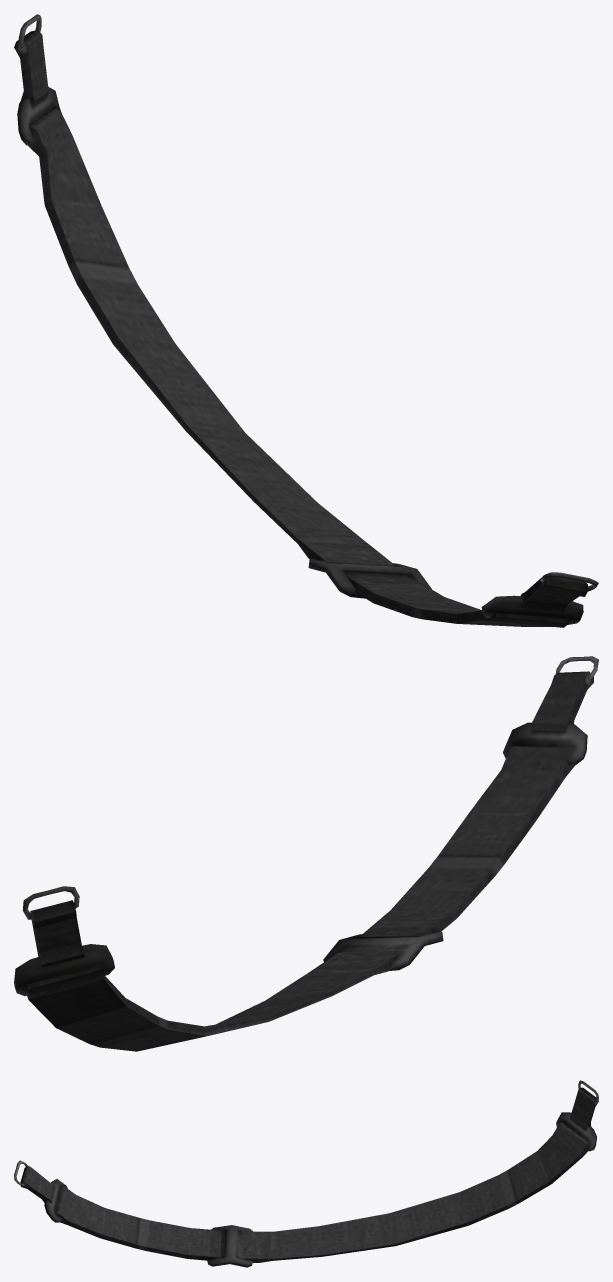
Rendered from M1_Sling.fbx.
3 renders of one model, top to bottom at view 1: azimuth 30°, elevation 25°; view 2: azimuth 150°, elevation 25°; view 3: azimuth 270°, elevation 25°, orthographic. The views are drawn at different scales.
Parts seen in each view (by area): view 1: M1_Sling; view 2: M1_Sling; view 3: M1_Sling.
Part boxes in pixels (x1,y1,x2,y2): M1_Sling: (14,14,598,627); M1_Sling: (14,656,598,1051); M1_Sling: (14,1080,598,1267).
Size of the model in its own units: 0.0381 by 0.3944 by 0.1289.
